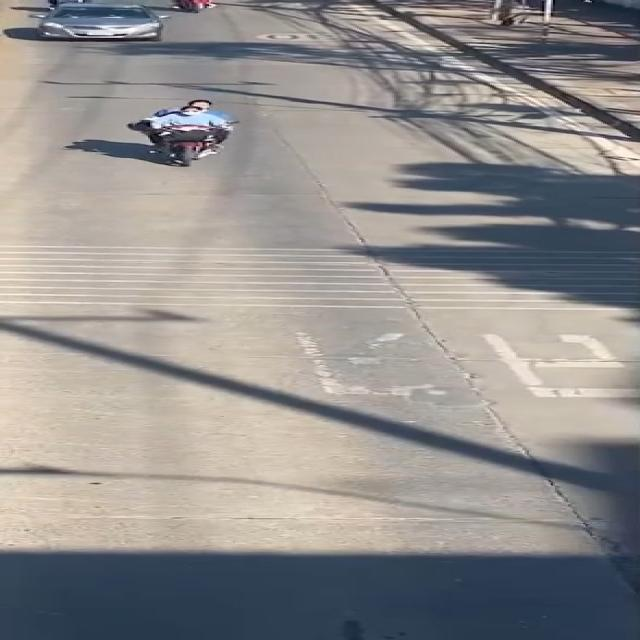car: (17, 0, 178, 47)
